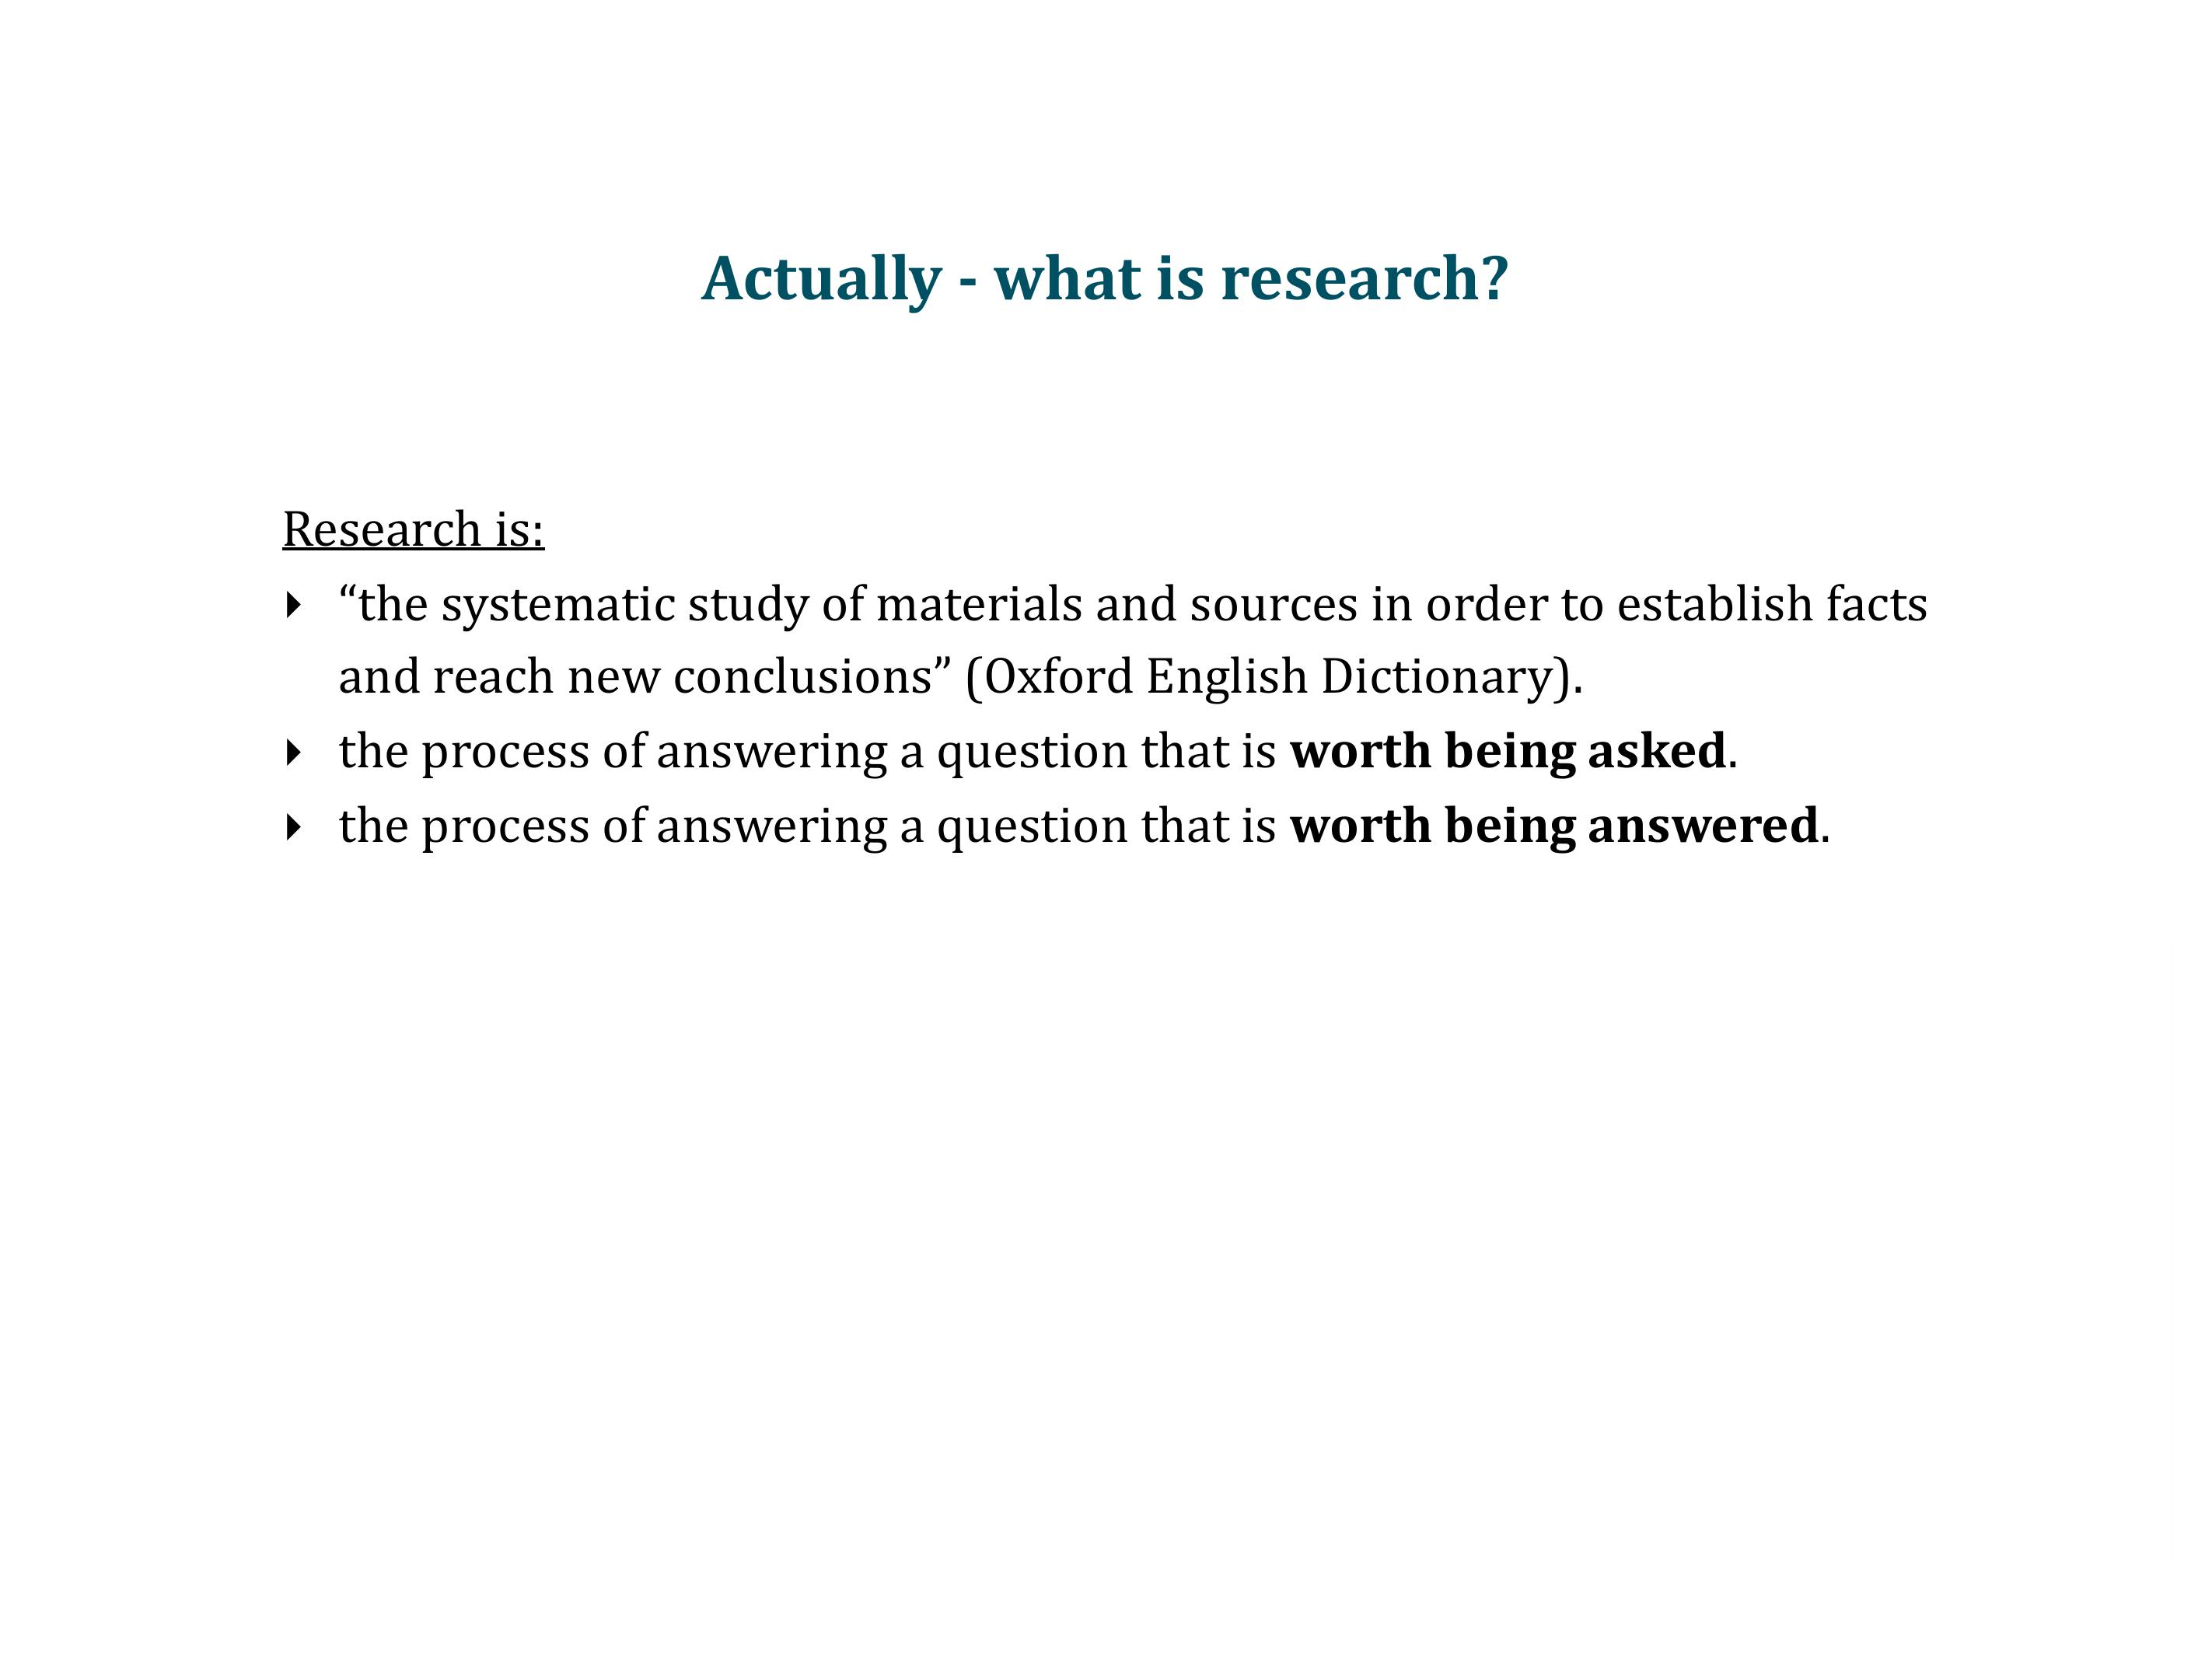Title: (689, 242, 1536, 319)
